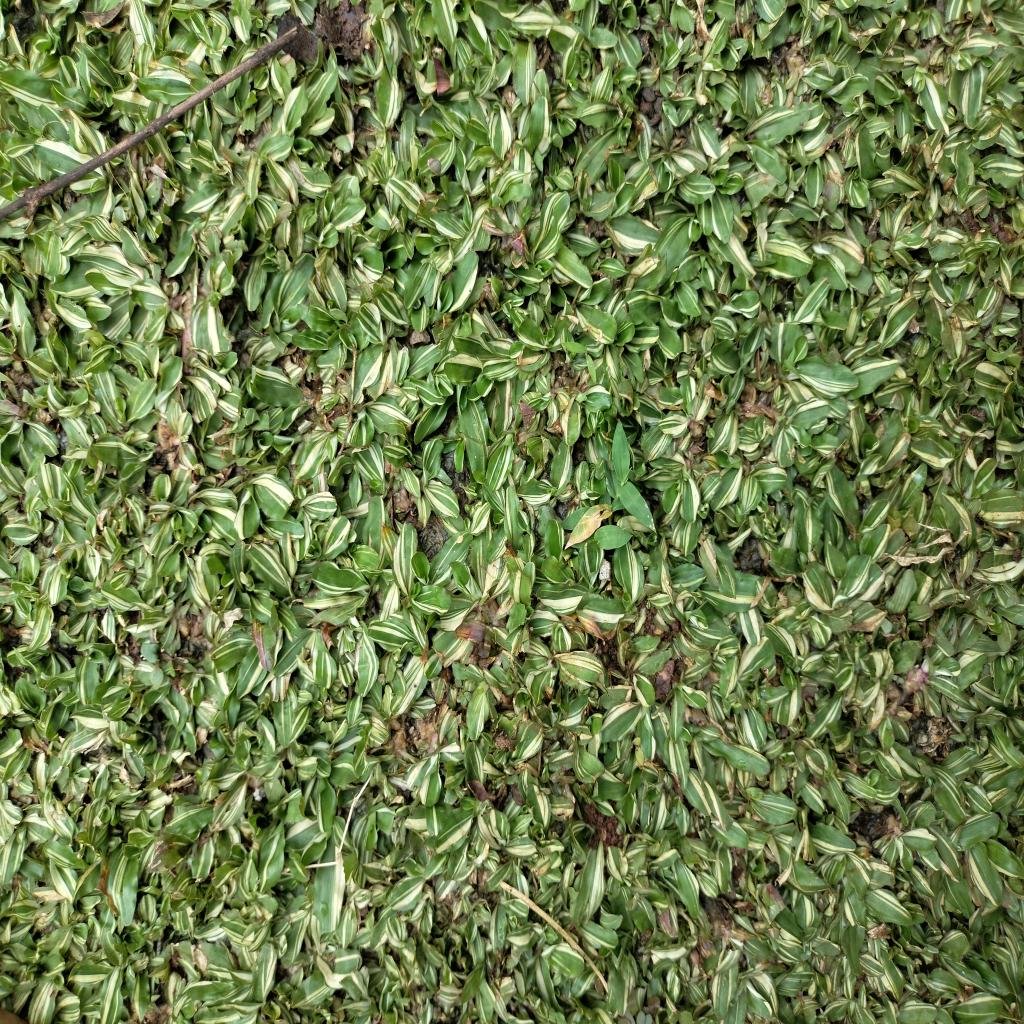rambat atas: (557, 414, 660, 552)
